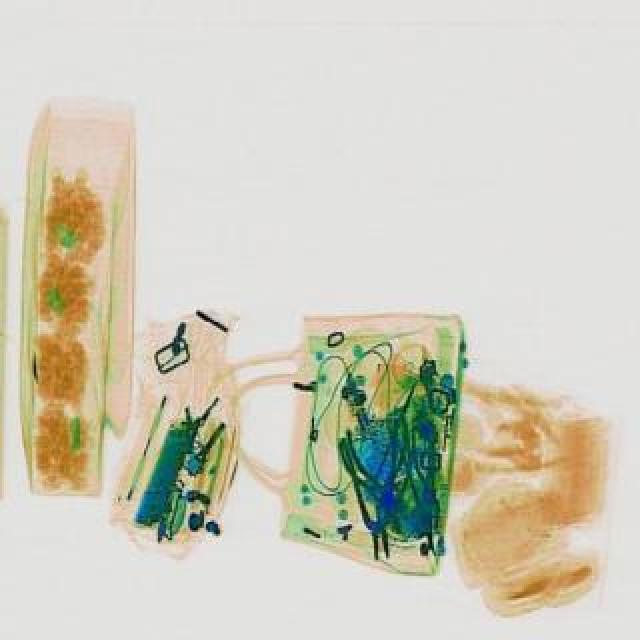wrench: (334, 422, 422, 562)
